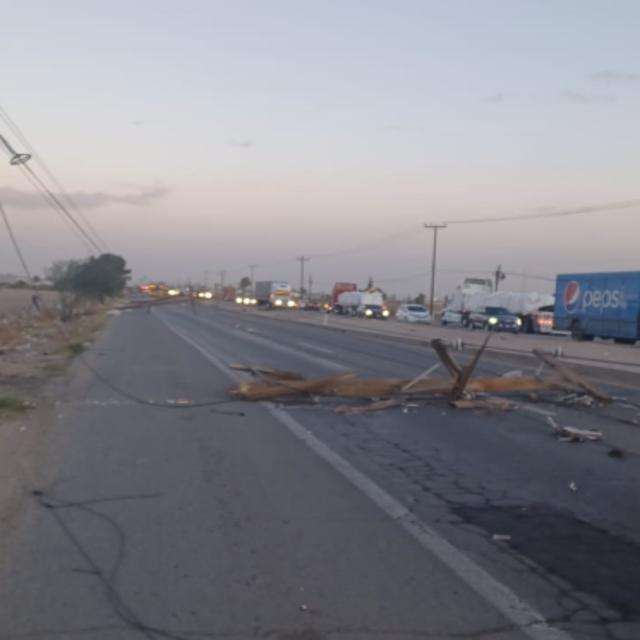Inclined Pole: (218, 332, 620, 424), (64, 286, 200, 322)
